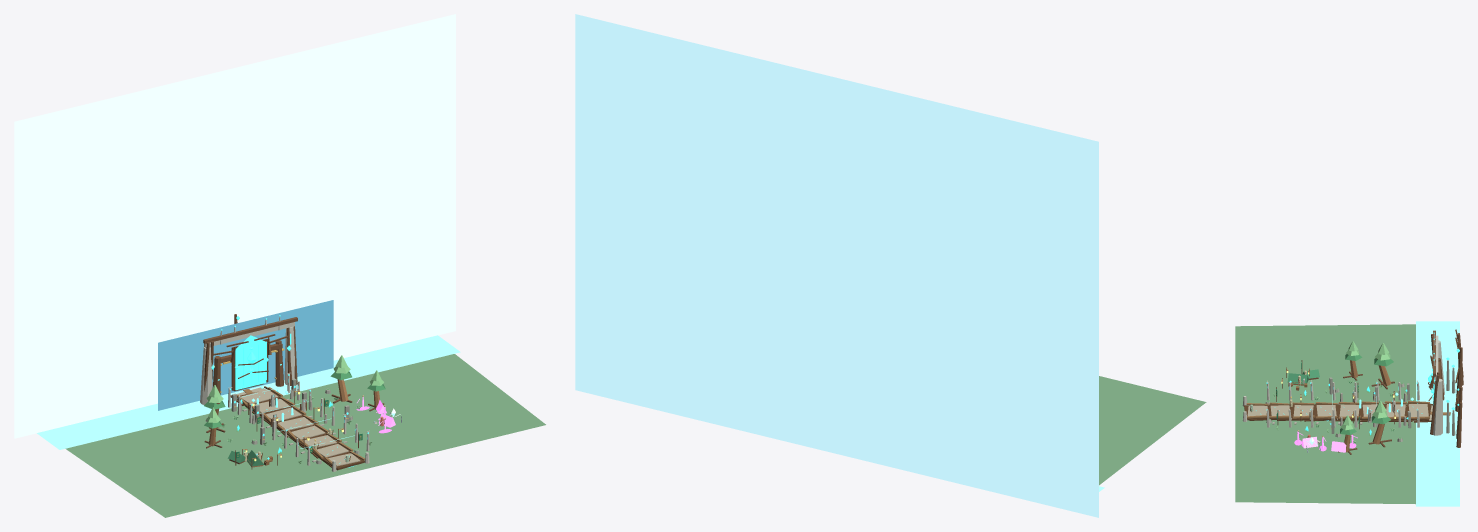
File: elarthalas_approach_visual_benchmark_v002.glb
3 renders of one model, left to right at view 1: azimuth 30°, elevation 25°; view 2: azimuth 150°, elevation 25°; view 3: azimuth 270°, elevation 25°, orthographic. The views are drawn at different scales.
Parts seen in each view (by area): view 1: ELAR_Terrain_Backdrop_SacredMorningSky, ELAR_Terrain_SacredApproachGround_76x38m, ELAR_ArchiveCity_SilentGate_BackgroundBlueSealFog, ELAR_Terrain_DistantBlueMistBackplate, ELAR_ArchiveCity_SilentGate_HeroSealedMemoryGlassDoor; view 2: ELAR_Terrain_Backdrop_SacredMorningSky, ELAR_Terrain_SacredApproachGround_76x38m; view 3: ELAR_Terrain_SacredApproachGround_76x38m, ELAR_Terrain_DistantBlueMistBackplate, ELAR_ArchiveCity_SilentGate_HeroRight_PaleArchiveStoneButtre.
Boxes of the visible parts, x1,y1,x2,y2 form: ELAR_Terrain_Backdrop_SacredMorningSky: (14, 14, 455, 438); ELAR_Terrain_SacredApproachGround_76x38m: (65, 354, 545, 517); ELAR_ArchiveCity_SilentGate_BackgroundBlueSealFog: (158, 300, 333, 410); ELAR_Terrain_DistantBlueMistBackplate: (37, 335, 460, 449); ELAR_ArchiveCity_SilentGate_HeroSealedMemoryGlassDoor: (235, 343, 266, 390); ELAR_Terrain_Backdrop_SacredMorningSky: (575, 14, 1098, 517); ELAR_Terrain_SacredApproachGround_76x38m: (1099, 376, 1206, 485); ELAR_Terrain_SacredApproachGround_76x38m: (1235, 324, 1415, 504); ELAR_Terrain_DistantBlueMistBackplate: (1416, 321, 1459, 506); ELAR_ArchiveCity_SilentGate_HeroRight_PaleArchiveStoneButtre: (1433, 378, 1442, 435).
Size of the model in its own units: 88 by 60.4 by 41.7.
